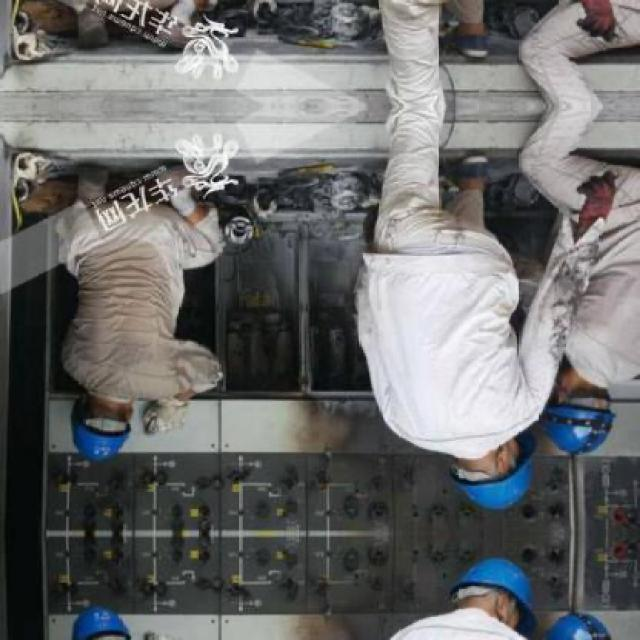con casco: (411, 418, 578, 507), (59, 362, 155, 487), (524, 360, 622, 468)
